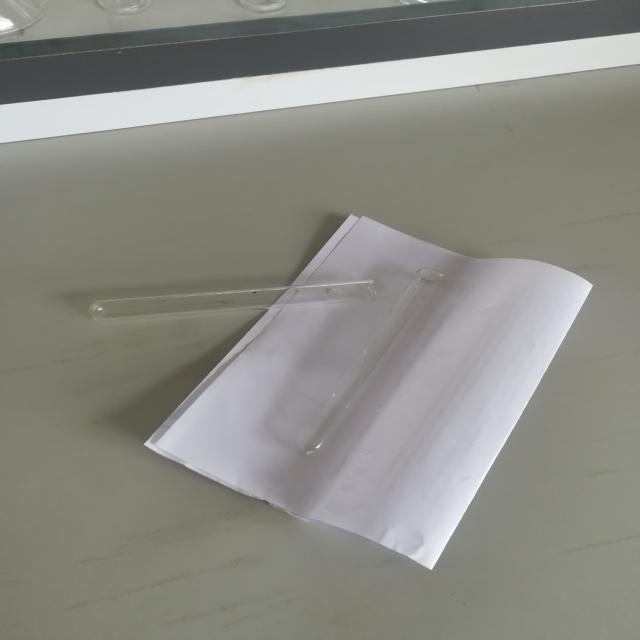Test_Tube: (280, 257, 500, 467), (56, 254, 394, 336)
